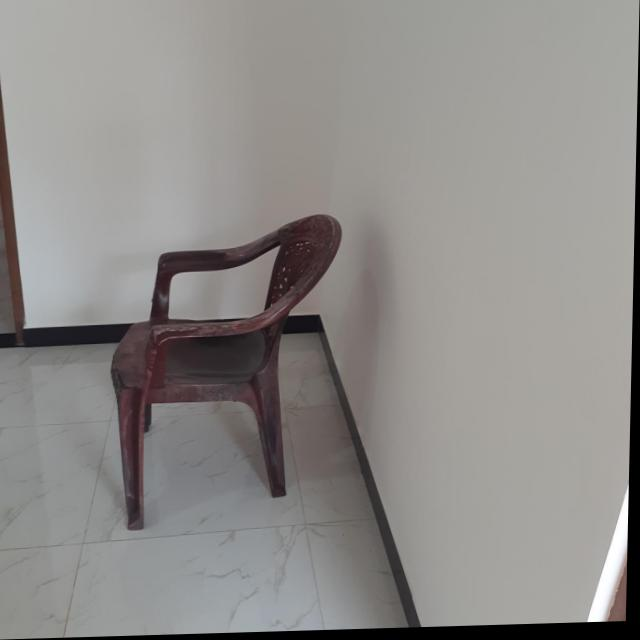Chair: (108, 216, 342, 533)
